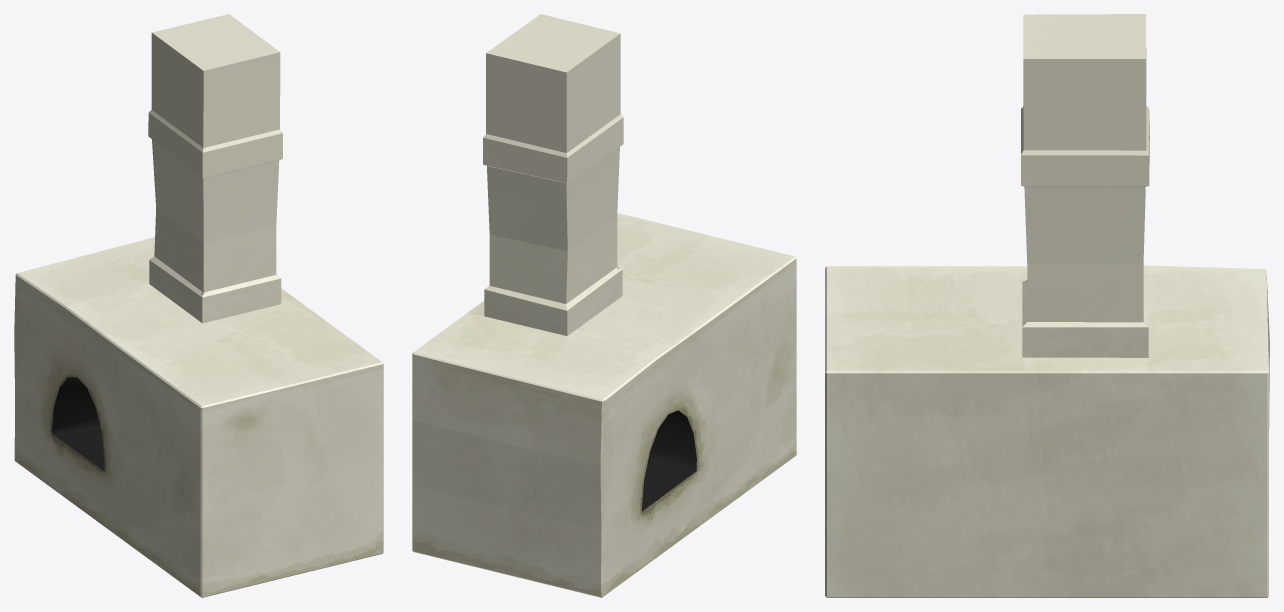
File: Stove.fbx
The picture shows the model from 3 angles, left to right: view 1: azimuth 30°, elevation 25°; view 2: azimuth 150°, elevation 25°; view 3: azimuth 270°, elevation 25°; orthographic projection. The views are drawn at different scales.
Visible parts, largest first — view 1: Cube.001; view 2: Cube.001; view 3: Cube.001.
Part boxes in pixels (x1,y1,x2,y2): Cube.001: (14, 14, 383, 597); Cube.001: (412, 14, 796, 597); Cube.001: (825, 14, 1269, 597).
Bounding box in the file's own units: 774 × 1800 × 1373.
